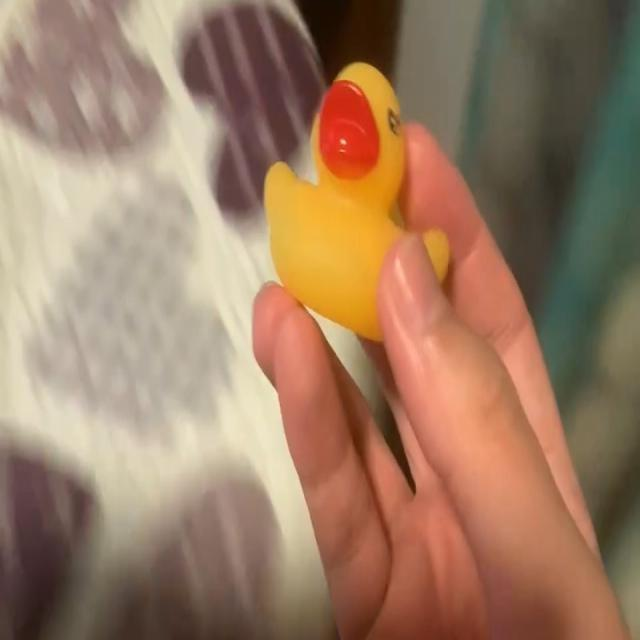rubber-duck: (264, 62, 403, 338), (422, 228, 447, 280)
